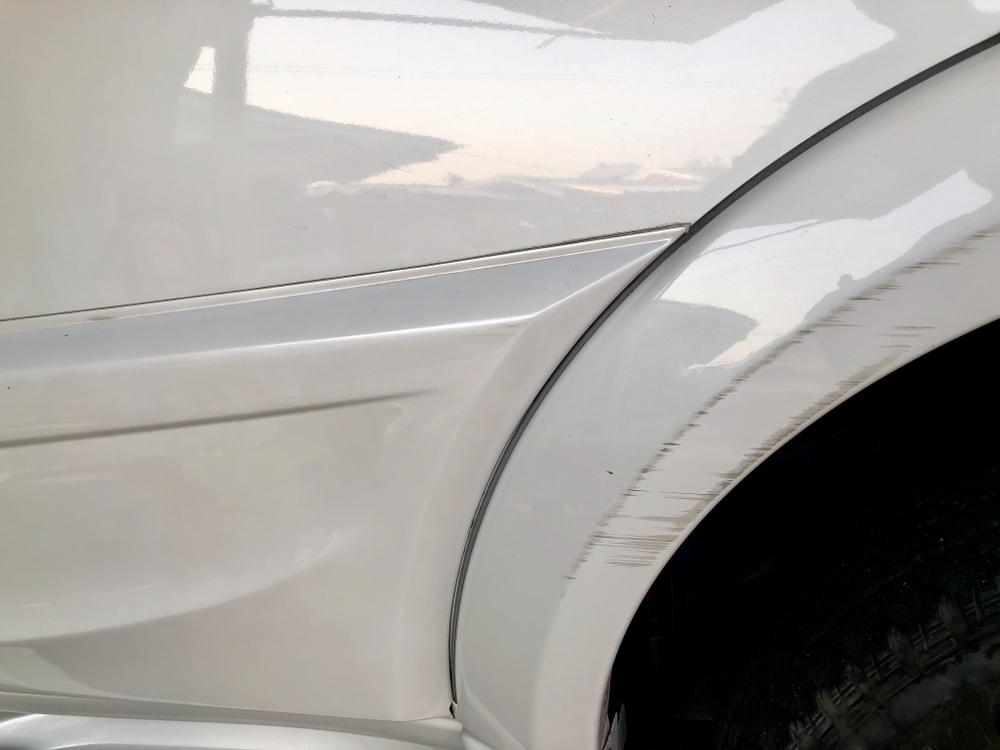scratch: (558, 206, 1000, 582)
